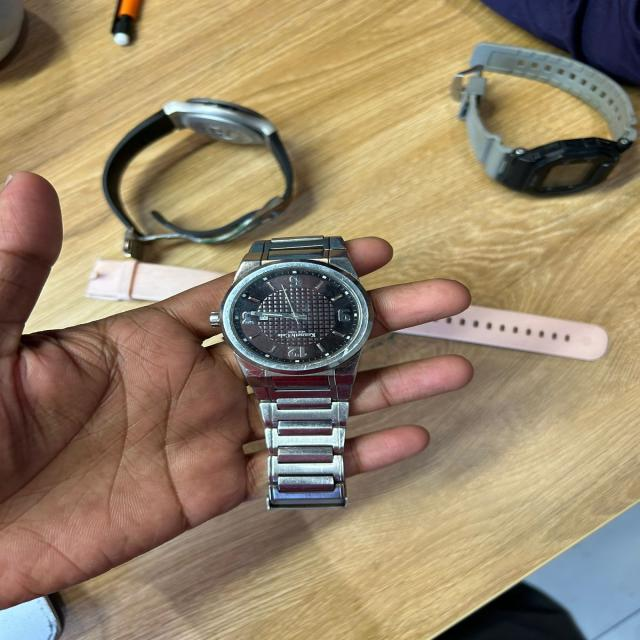watch: (206, 234, 374, 511)
